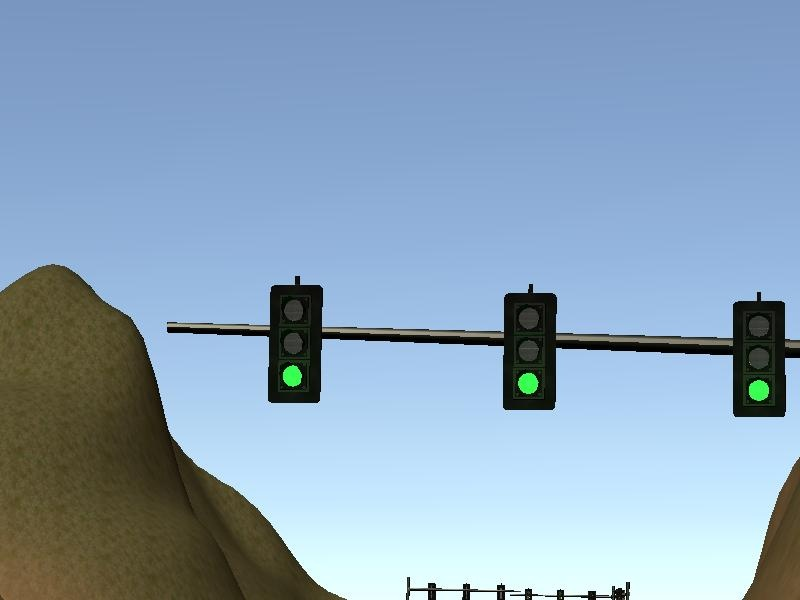green: (498, 286, 563, 415), (263, 278, 323, 410), (725, 298, 789, 418)
